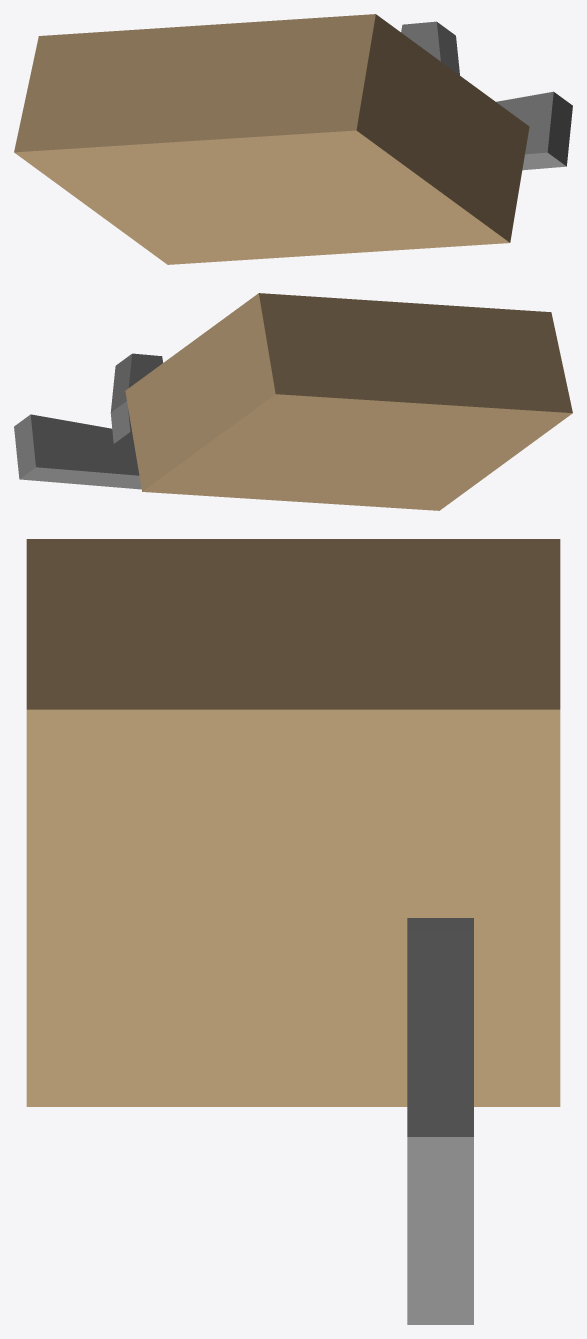
3 views of the same model, one above another, from view 1: azimuth 30°, elevation 25°; view 2: azimuth 150°, elevation 25°; view 3: azimuth 270°, elevation 25° (orthographic). The views are drawn at different scales.
Visible parts, largest first — view 1: 0_3_2_3_1_2_2_1_3; view 2: 0_3_2_3_1_2_2_1_3; view 3: 0_3_2_3_1_2_2_1_3.
Boxes of the visible parts, box(x1,y1,x2,y2) form: 0_3_2_3_1_2_2_1_3: box(14, 14, 572, 264); 0_3_2_3_1_2_2_1_3: box(14, 293, 572, 510); 0_3_2_3_1_2_2_1_3: box(26, 539, 560, 1324).
Size of the model in its own units: 46.41 by 18.64 by 24.
